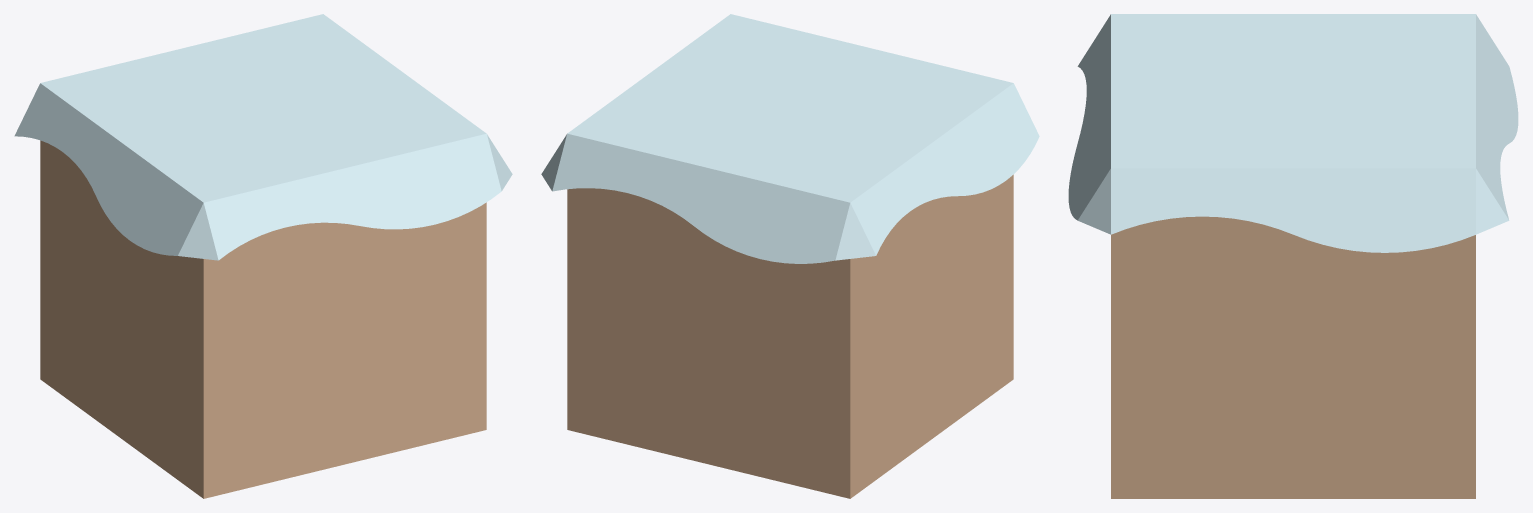
File: blockSnow.glb
3 renders of one model, left to right at view 1: azimuth 30°, elevation 25°; view 2: azimuth 150°, elevation 25°; view 3: azimuth 270°, elevation 25°, orthographic. The views are drawn at different scales.
Parts seen in each view (by area): view 1: blockSnow(Clone); view 2: blockSnow(Clone); view 3: blockSnow(Clone).
Boxes of the visible parts, x1,y1,x2,y2 form: blockSnow(Clone): (14,14,512,498); blockSnow(Clone): (541,14,1039,498); blockSnow(Clone): (1068,14,1518,498).
Bounding box in the file's own units: 1.23 × 1 × 1.23.
